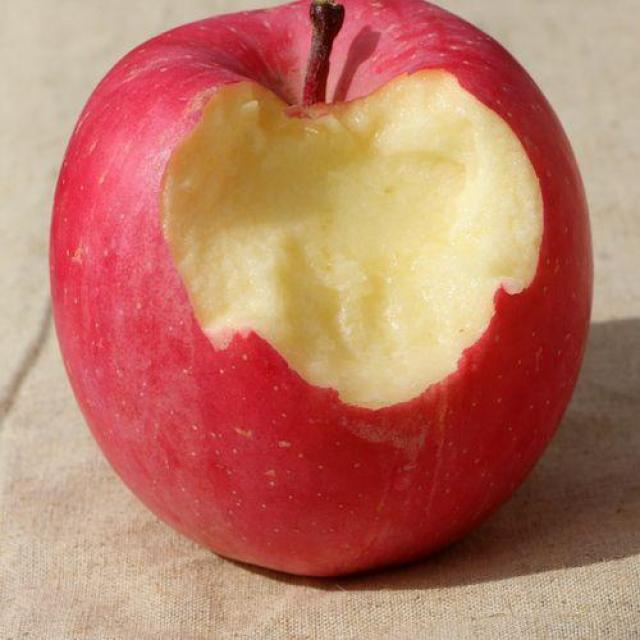Rotten: (46, 0, 596, 585)
